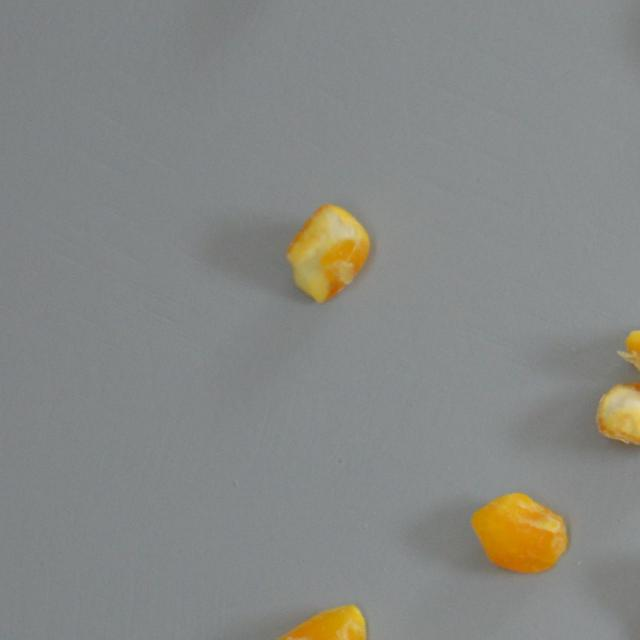pelicula: (285, 200, 370, 304), (468, 492, 570, 576), (260, 602, 366, 640), (594, 381, 640, 452), (614, 322, 640, 390)
